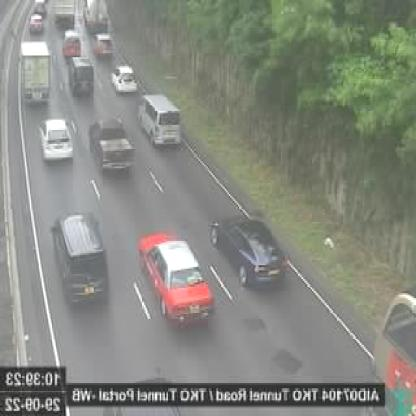Bus: (367, 277, 416, 414)
Car: (133, 229, 222, 329), (209, 204, 296, 293), (48, 208, 114, 314), (86, 113, 138, 173), (136, 94, 188, 147), (36, 113, 77, 163), (66, 57, 99, 102), (110, 62, 138, 99), (60, 28, 83, 60), (95, 30, 116, 56), (24, 12, 44, 31)
Truck: (16, 38, 53, 111), (51, 0, 82, 33)
